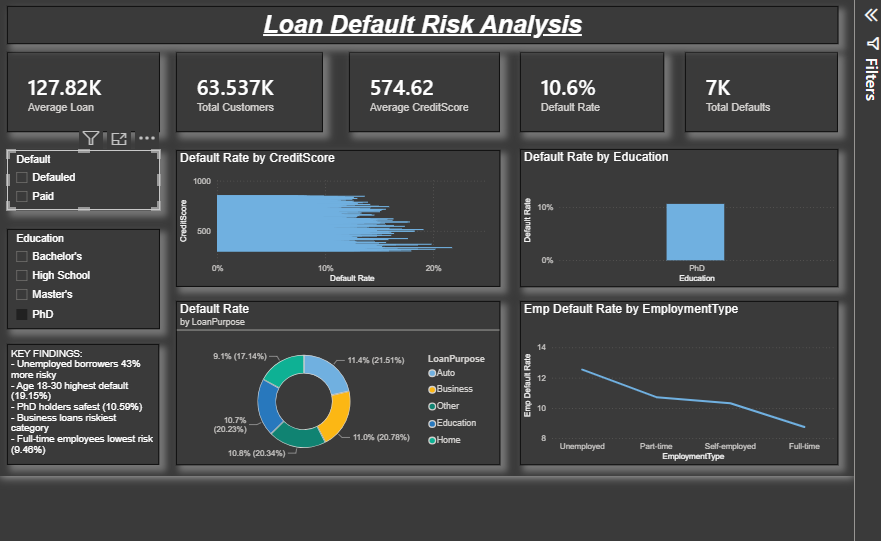

The dashboard page shown, as its layout file describes it:
{"tool":"powerbi","page":{"name":"Page 1","canvas":[1280,720],"ordinal":0},"visuals":[{"type":"cardVisual","fields":{"Data":["Avg(Sheet1.LoanAmount)"]},"box":[10.5,83.9,229.3,119.9],"z":0},{"type":"cardVisual","fields":{"Data":["CountNonNull(Sheet1.LoanID)"]},"box":[263.8,83.9,220.3,119.9],"z":1000},{"type":"cardVisual","fields":{"Data":["Avg(Sheet1.CreditScore)"]},"box":[523.1,83.9,226.3,119.9],"z":2000},{"type":"cardVisual","fields":{"Data":["Sheet1.Default Rate"]},"box":[779.4,83.9,215.8,119.9],"z":3000},{"type":"slicer","fields":{"Values":["Sheet1.Default"]},"box":[10.5,230.8,229.3,89.9],"z":4000},{"type":"slicer","fields":{"Values":["Sheet1.Education"]},"box":[10.5,349.2,229.3,149.9],"z":5000},{"type":"cardVisual","fields":{"Data":["Sheet1.Total Defaults"]},"box":[1026.7,83.9,229.3,119.9],"z":6000},{"type":"barChart","fields":{"Y":["Sheet1.Default Rate"],"Category":["Sheet1.CreditScore"]},"box":[263.8,230.8,485.6,205.3],"z":7000},{"type":"columnChart","fields":{"Category":["Sheet1.Education"],"Y":["Sheet1.Default Rate"]},"box":[779.4,229.3,476.6,206.8],"z":8000},{"type":"pieChart","fields":{"Category":["Sheet1.LoanPurpose"],"Y":["Sheet1.Default Rate"]},"box":[263.8,457.1,485.6,245.8],"z":9000},{"type":"ribbonChart","fields":{"Category":["Sheet1.EmploymentType"],"Y":["Sheet1.Emp Default Rate"]},"box":[779.4,457.1,476.6,245.8],"z":10000},{"type":"textbox","box":[10.5,15,1245.5,57],"z":11000},{"type":"textbox","box":[10.5,521.6,227.8,181.4],"z":12000}]}

Visuals, with their boxes in screenshot pixels (x1, y1, x2, y2):
cardVisual - Avg(Sheet1.LoanAmount): (5, 50, 160, 131)
cardVisual - CountNonNull(Sheet1.LoanID): (177, 50, 326, 131)
cardVisual - Avg(Sheet1.CreditScore): (353, 50, 506, 131)
cardVisual - Sheet1.Default Rate: (527, 50, 673, 131)
slicer - Sheet1.Default: (5, 150, 160, 211)
slicer - Sheet1.Education: (5, 230, 160, 332)
cardVisual - Sheet1.Total Defaults: (695, 50, 850, 131)
barChart - Sheet1.Default Rate x Sheet1.CreditScore: (177, 150, 506, 289)
columnChart - Sheet1.Education x Sheet1.Default Rate: (527, 149, 850, 289)
pieChart - Sheet1.LoanPurpose x Sheet1.Default Rate: (177, 303, 506, 470)
ribbonChart - Sheet1.EmploymentType x Sheet1.Emp Default Rate: (527, 303, 850, 470)
textbox: (5, 3, 850, 42)
textbox: (5, 347, 159, 470)
